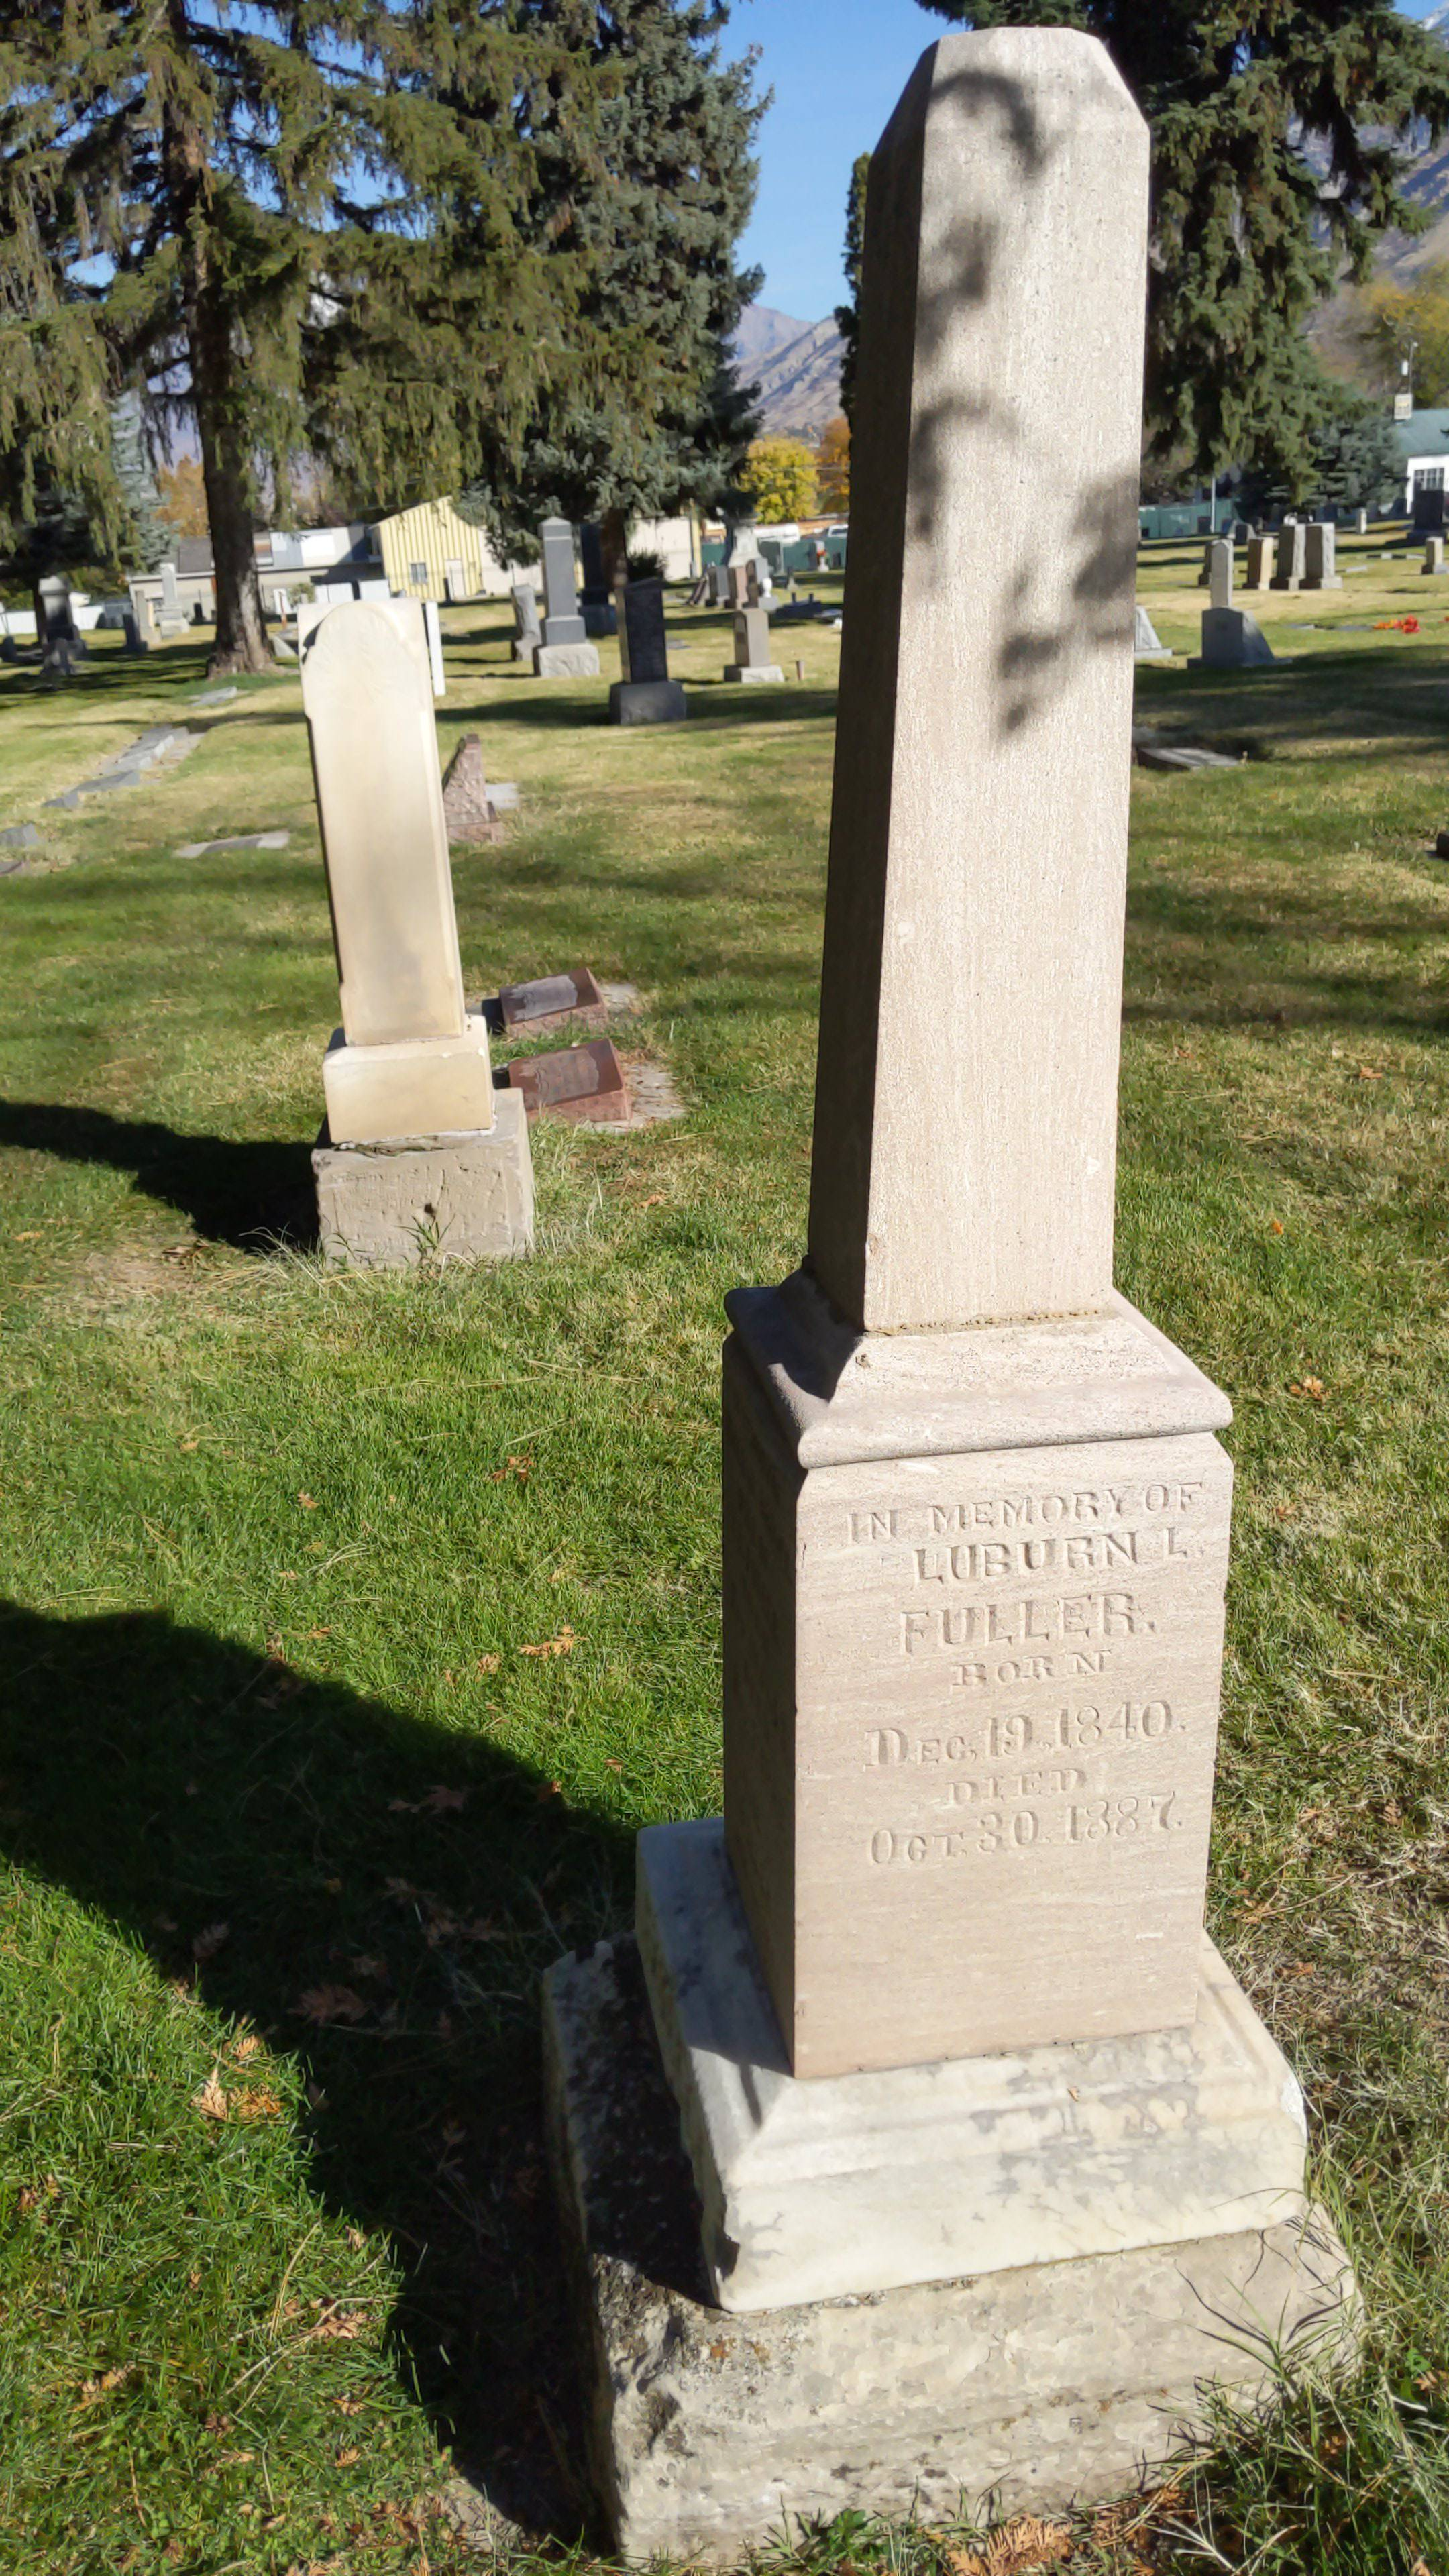obelisk: (724, 27, 1217, 2084)
